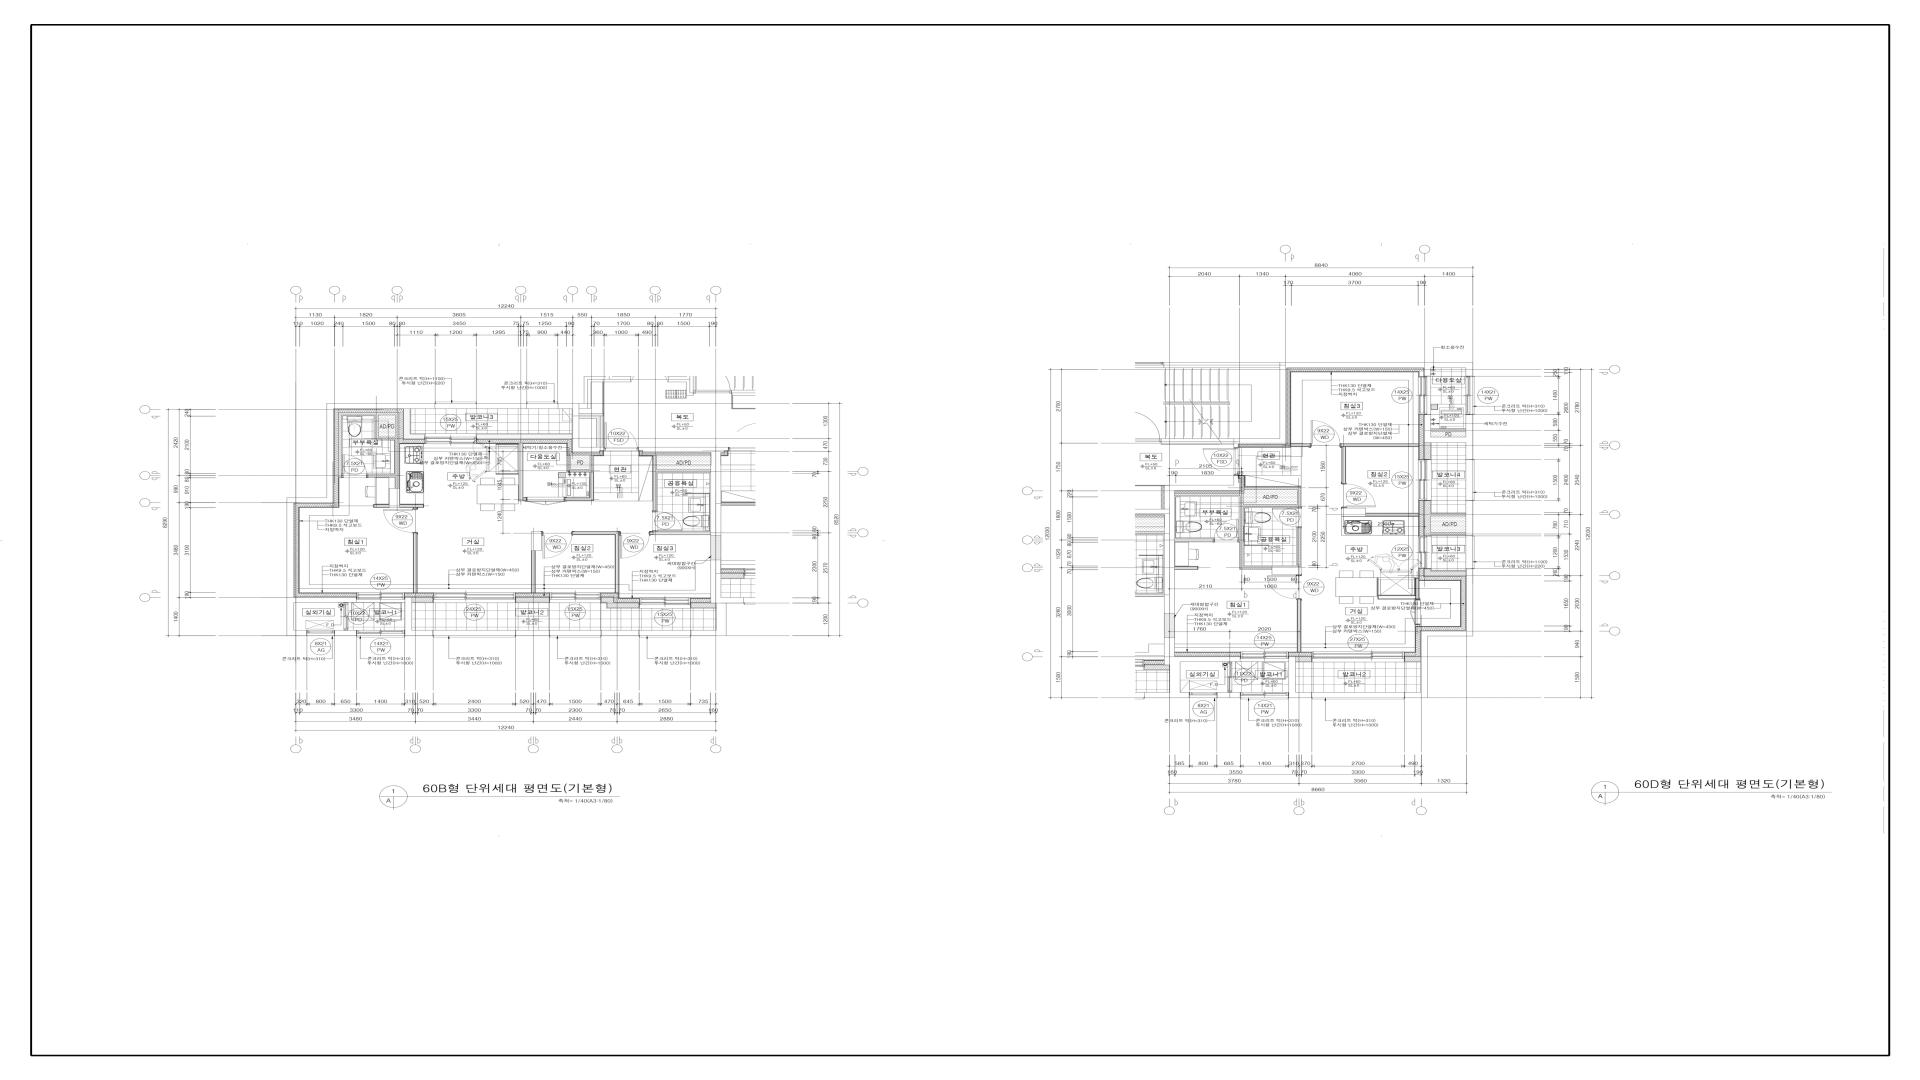door: (1203, 447, 1238, 476), (604, 422, 638, 451), (618, 531, 654, 559), (1267, 575, 1302, 600), (542, 531, 572, 559), (1341, 484, 1375, 508), (382, 509, 417, 533), (1311, 421, 1341, 447), (653, 510, 683, 531), (1213, 518, 1240, 542), (342, 455, 368, 477), (1273, 508, 1300, 529), (526, 497, 566, 505), (1410, 599, 1420, 625), (1228, 662, 1232, 692), (344, 603, 348, 630)
wall: (286, 402, 404, 597), (1404, 568, 1473, 698), (404, 404, 579, 439), (638, 447, 728, 502), (1145, 596, 1189, 698), (1234, 368, 1287, 448), (1135, 491, 1175, 596), (339, 413, 400, 477), (711, 502, 744, 604), (653, 455, 711, 512), (572, 533, 618, 593), (287, 597, 356, 636), (1286, 363, 1473, 376), (368, 415, 400, 488), (1424, 414, 1473, 460), (1240, 508, 1273, 568), (1175, 493, 1298, 508), (579, 376, 630, 409), (691, 603, 727, 636), (1245, 487, 1300, 508), (1164, 476, 1241, 491), (405, 597, 433, 636), (1288, 657, 1312, 698), (579, 413, 604, 447), (1424, 516, 1466, 535), (566, 472, 593, 501), (1163, 363, 1286, 368), (404, 409, 425, 439), (1424, 501, 1466, 516), (476, 434, 572, 439), (669, 376, 694, 396), (1312, 692, 1404, 698), (567, 455, 593, 472), (433, 630, 516, 636), (572, 439, 604, 452), (601, 597, 640, 608), (1175, 657, 1241, 662), (1160, 439, 1234, 443), (1424, 570, 1466, 576), (1466, 459, 1473, 501), (550, 630, 601, 636), (640, 630, 691, 636), (1341, 508, 1366, 517), (1273, 567, 1302, 575), (1466, 535, 1473, 570), (389, 488, 400, 508), (531, 531, 542, 551), (1341, 444, 1419, 447), (601, 630, 640, 636), (516, 630, 550, 636), (516, 597, 550, 603), (531, 551, 535, 592), (414, 533, 417, 593), (520, 443, 522, 501), (653, 531, 711, 534), (1466, 514, 1473, 535), (1366, 513, 1419, 516), (1298, 600, 1300, 653), (691, 603, 716, 608), (1145, 665, 1170, 670), (1217, 692, 1241, 698), (732, 390, 756, 396), (411, 597, 434, 603), (721, 574, 744, 579), (1424, 443, 1431, 460), (335, 630, 356, 636), (1298, 527, 1300, 567), (1175, 539, 1213, 542), (1342, 447, 1345, 484), (1431, 429, 1466, 431), (1466, 501, 1473, 514), (1296, 657, 1312, 662), (1404, 657, 1420, 662), (1135, 531, 1164, 534), (1135, 593, 1164, 596), (400, 505, 423, 508), (1416, 579, 1419, 599), (375, 505, 389, 508), (1291, 444, 1311, 446), (522, 498, 526, 501), (414, 508, 417, 509)
window: (1312, 651, 1404, 659), (434, 592, 516, 600), (425, 436, 477, 444), (550, 592, 601, 600), (640, 597, 691, 605), (356, 592, 405, 600), (356, 630, 405, 638), (1418, 460, 1427, 501), (1241, 651, 1288, 659), (1418, 376, 1427, 414), (1240, 692, 1288, 699), (1418, 535, 1427, 570), (1466, 376, 1474, 414), (1312, 698, 1404, 700), (433, 636, 516, 637), (1134, 363, 1163, 365), (307, 630, 335, 633), (1189, 692, 1217, 695), (550, 636, 601, 637), (640, 636, 691, 637), (1473, 459, 1474, 501), (435, 402, 476, 404), (1473, 535, 1474, 570), (526, 402, 558, 404)
